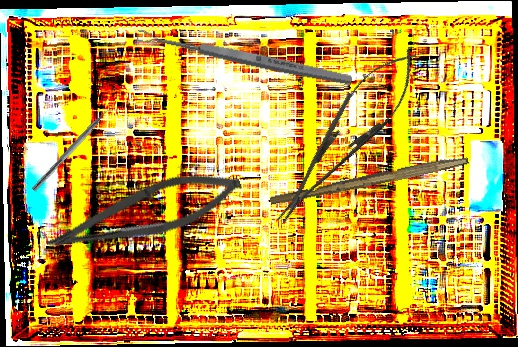Chopper: (31, 102, 119, 197)
Micro Scissor: (40, 154, 248, 275)
Needle Holder: (260, 36, 431, 237)
Scalpel Handle: (269, 150, 469, 210)
Surgical Spoon: (135, 27, 354, 88)
